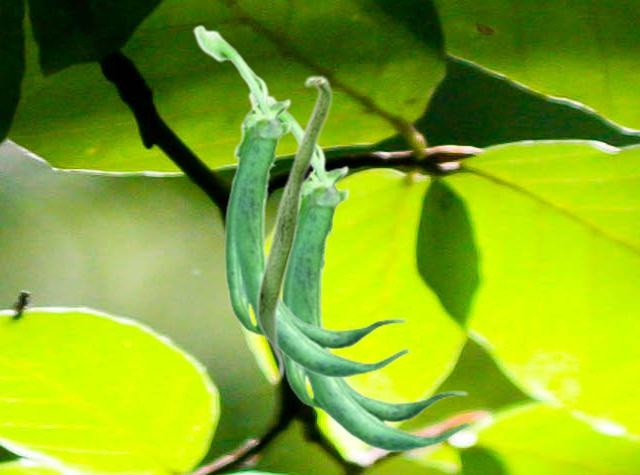french_bean: (247, 92, 470, 452), (192, 24, 409, 378), (255, 74, 332, 380)
